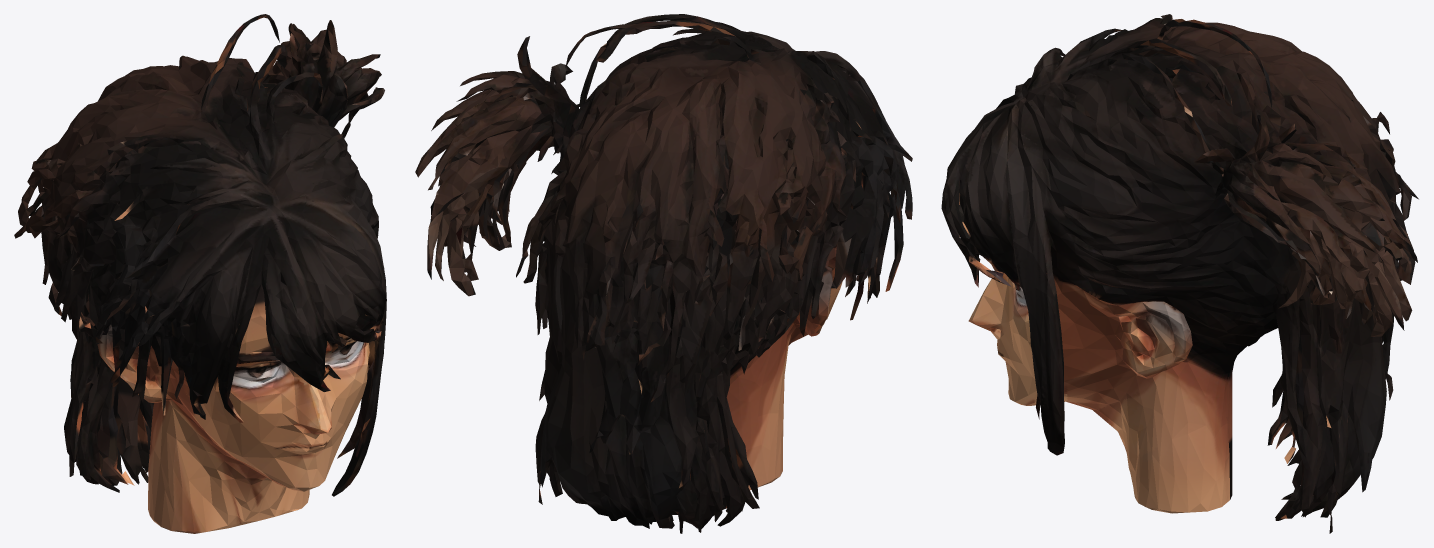
Rendered from side_h_guide_repaired_atlas.glb.
3 views of the same model, side by side, from view 1: azimuth 30°, elevation 25°; view 2: azimuth 150°, elevation 25°; view 3: azimuth 270°, elevation 25° (orthographic). The views are drawn at different scales.
Visible parts, largest first — view 1: temp_mesh.ply; view 2: temp_mesh.ply; view 3: temp_mesh.ply.
Part boxes in pixels (bbox=[...]): temp_mesh.ply: bbox=[14, 14, 386, 533]; temp_mesh.ply: bbox=[415, 14, 912, 533]; temp_mesh.ply: bbox=[941, 14, 1418, 533].
Size of the model in its own units: 1.26 by 1.52 by 1.37.
Materials: 1 (1 with a texture image).
